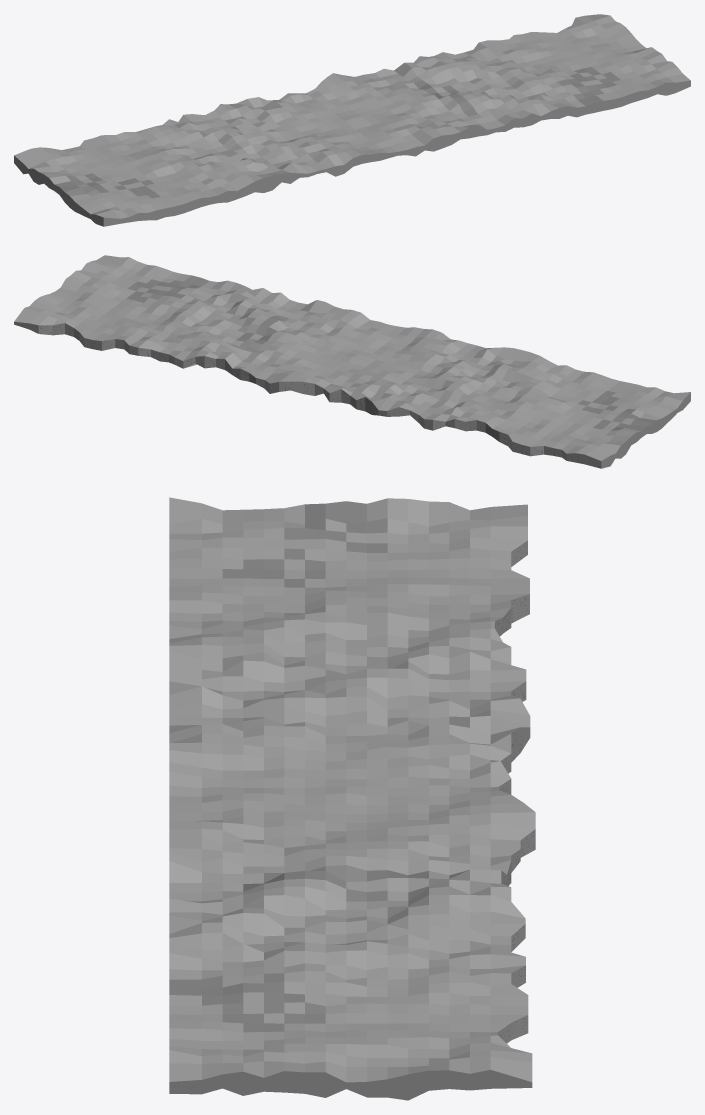
The model's file is yellow_left_wall.fbx.
3 views of the same model, one above another, from view 1: azimuth 30°, elevation 25°; view 2: azimuth 150°, elevation 25°; view 3: azimuth 270°, elevation 25° (orthographic). The views are drawn at different scales.
Visible parts, largest first — view 1: Grid; view 2: Grid; view 3: Grid.
Boxes of the visible parts, x1,y1,x2,y2 form: Grid: (14,14,690,226); Grid: (14,255,690,468); Grid: (169,497,535,1100).
Size of the model in its own units: 8.2 by 0.2253 by 2.22.
2 materials, 2 textured.
